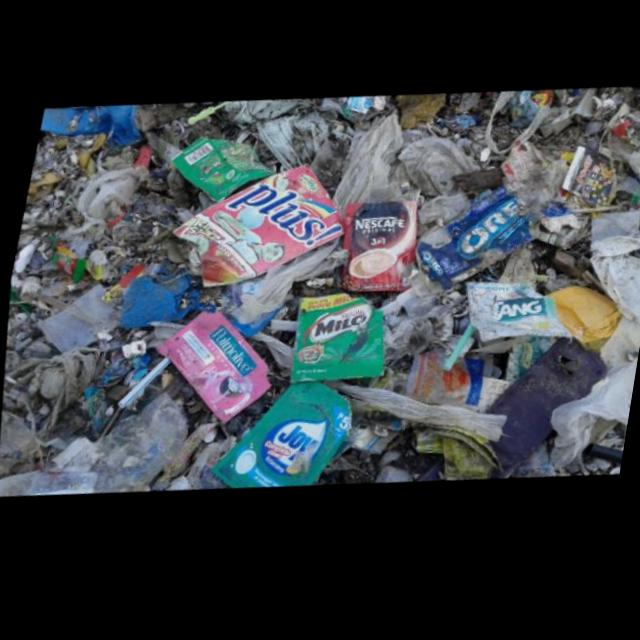bao_bi_thuc_pham: (170, 169, 341, 291), (413, 193, 530, 296)
goi_nhua_nho: (209, 386, 349, 493), (152, 314, 268, 428), (288, 298, 381, 387), (337, 206, 413, 297), (167, 140, 270, 204), (461, 288, 568, 349)
ong_hut_nhua: (115, 360, 169, 410), (440, 331, 471, 377), (579, 453, 622, 473)
